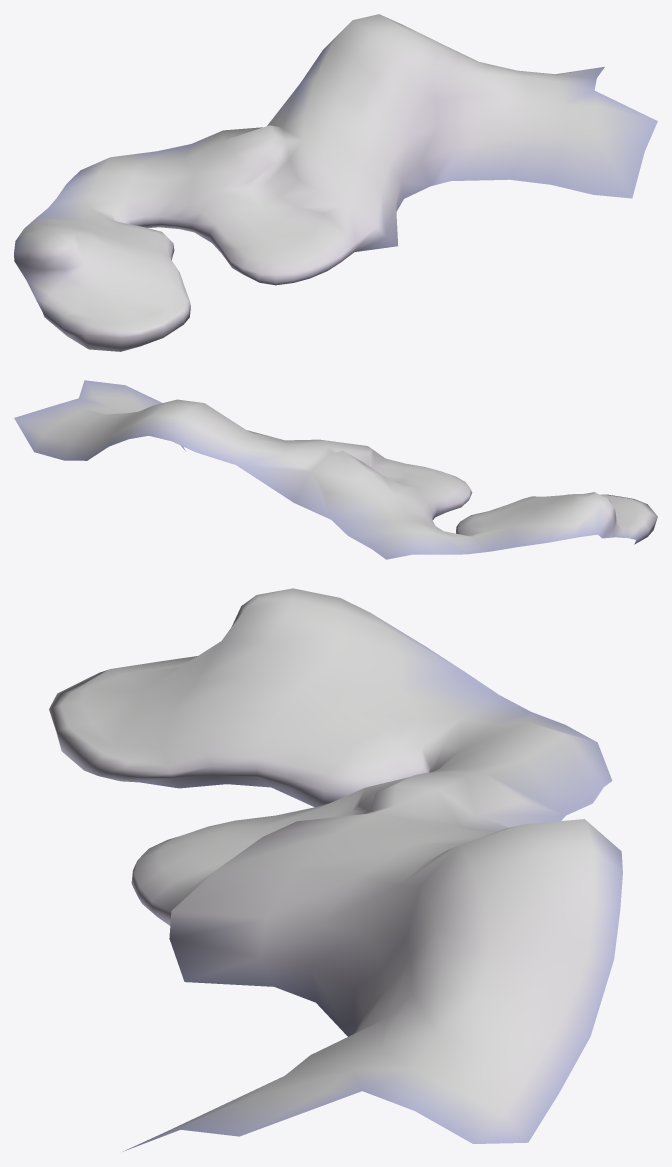
The model's file is TownIglooHill.glb.
3 renders of one model, top to bottom at view 1: azimuth 30°, elevation 25°; view 2: azimuth 150°, elevation 25°; view 3: azimuth 270°, elevation 25°, orthographic. The views are drawn at different scales.
Parts seen in each view (by area): view 1: TownIglooHill; view 2: TownIglooHill; view 3: TownIglooHill.
Boxes of the visible parts, bbox=[...] form: TownIglooHill: bbox=[14, 14, 657, 351]; TownIglooHill: bbox=[14, 380, 657, 559]; TownIglooHill: bbox=[49, 588, 622, 1151].
Size of the model in its own units: 43.24 by 8.71 by 19.25.
